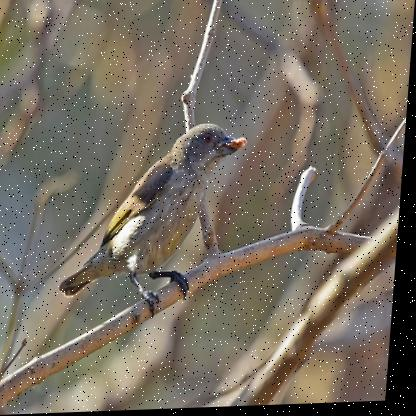Burung: (51, 123, 251, 322)
